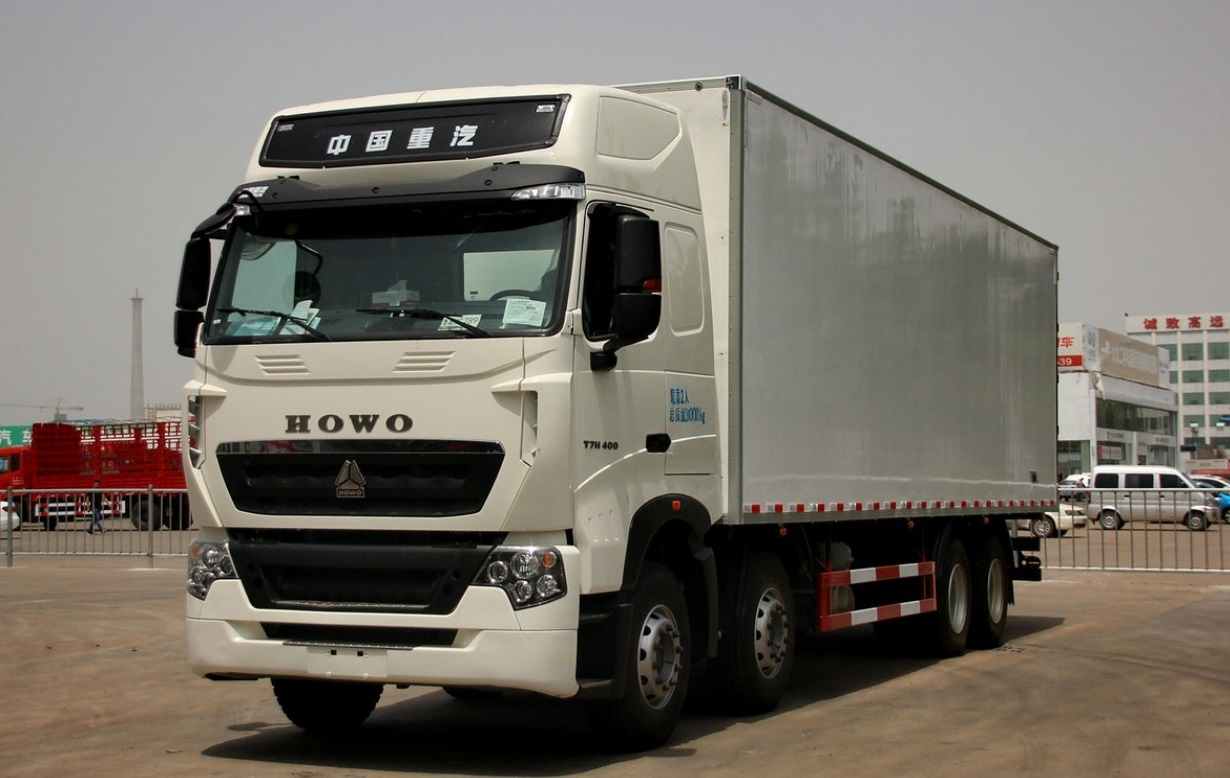heavy truck: (165, 64, 1095, 712)
